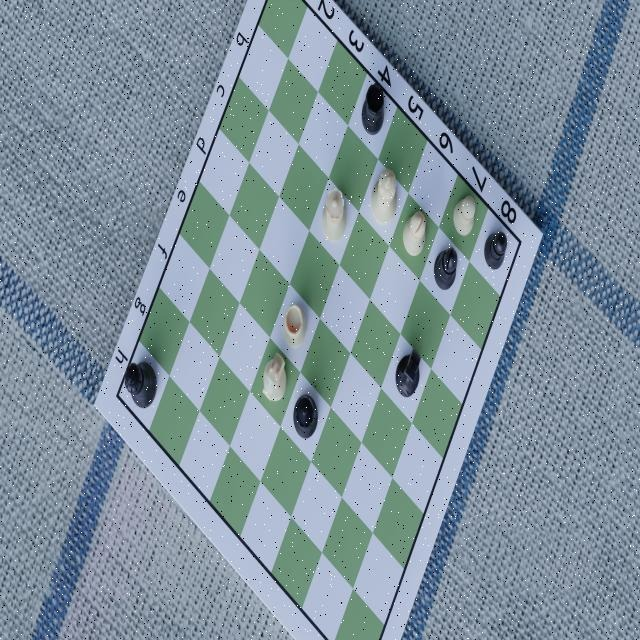black-bishop: (432, 244, 460, 295)
black-king: (124, 354, 159, 418)
black-knight: (394, 345, 422, 403)
black-pawn: (482, 228, 509, 274)
black-queen: (291, 395, 318, 437)
black-rook: (360, 79, 388, 138)
white-bishop: (399, 206, 428, 261)
white-king: (371, 169, 399, 231)
white-pawn: (451, 192, 476, 240)
white-queen: (320, 189, 350, 247), (260, 349, 288, 409)
white-rook: (283, 301, 309, 347)
